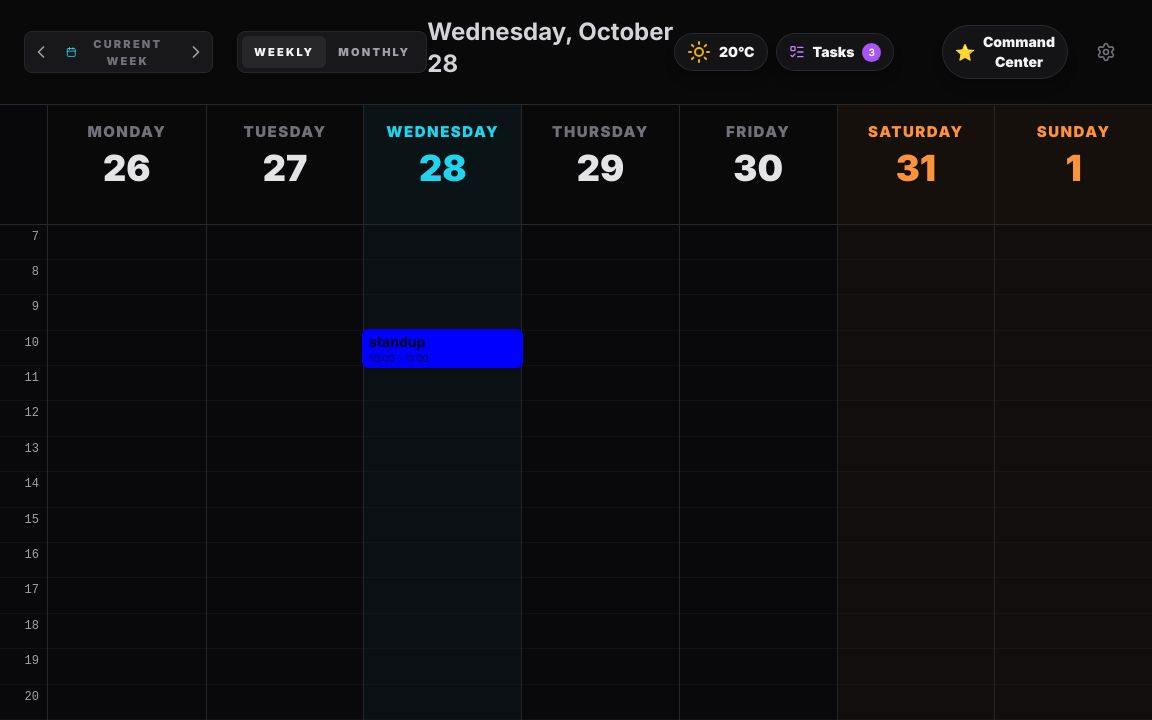
Scenario: Back from Mission Control › offline: the events stay, saying since when, and so do the tasks
The image size is (1152, 720).
Click the button with test id "switch-to-mc-btn".
click(1005, 52)  # box [942,25,1068,79]
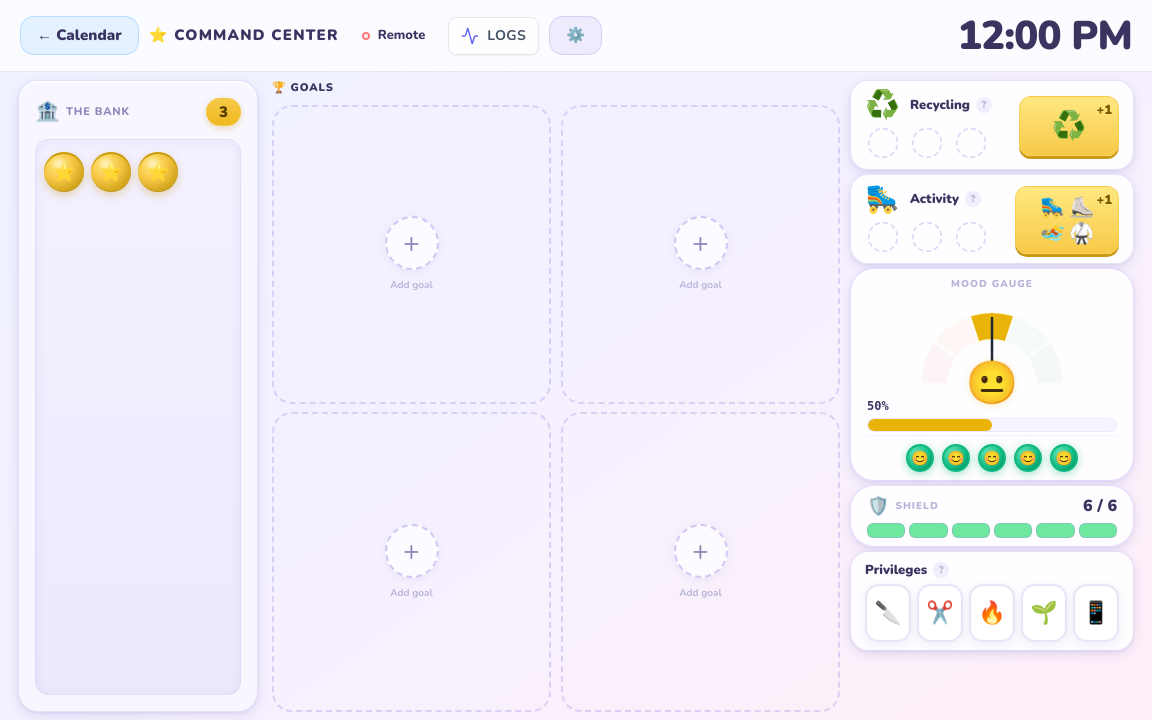
Click the button with test id "mc-back-to-calendar-btn".
click(79, 36)  # box [20,16,139,55]
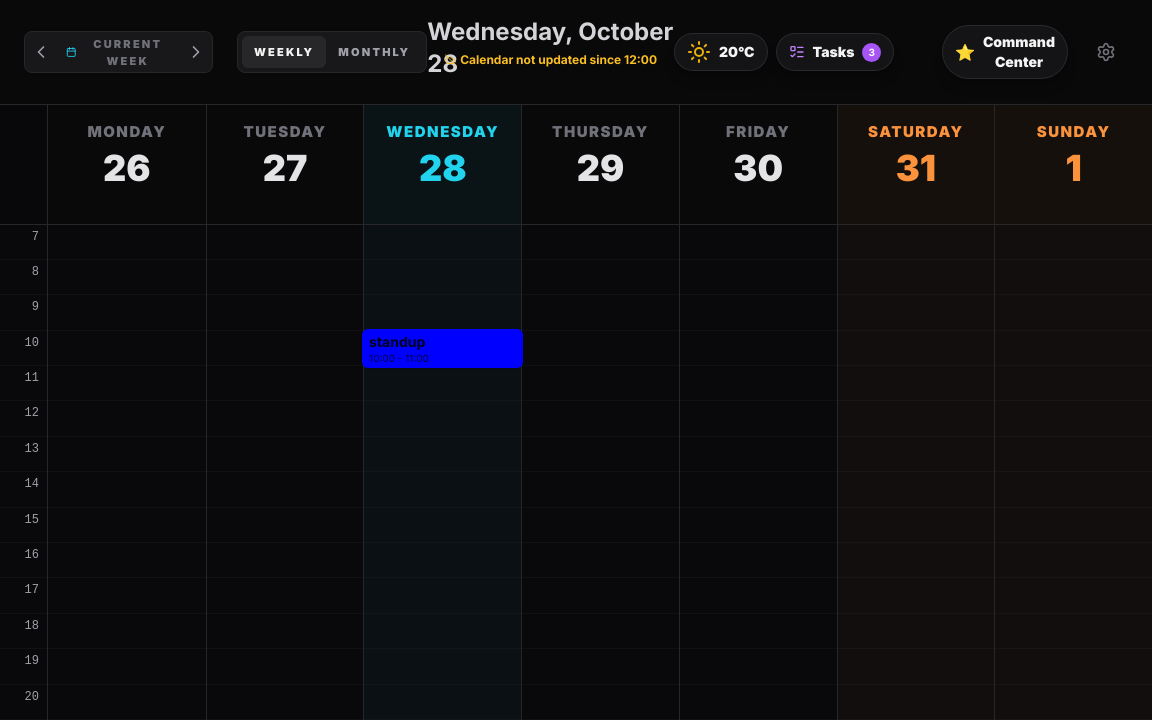
Check: the element with test id "event-card-standup" is shown, box [362,329,524,368]
Check: the element with test id "calendar-read-notice" reads "Calendar not updated since 12:00", box [460,52,657,67]
Check: the button with test id "tasks-button" shows "3", box [776,33,894,71]
